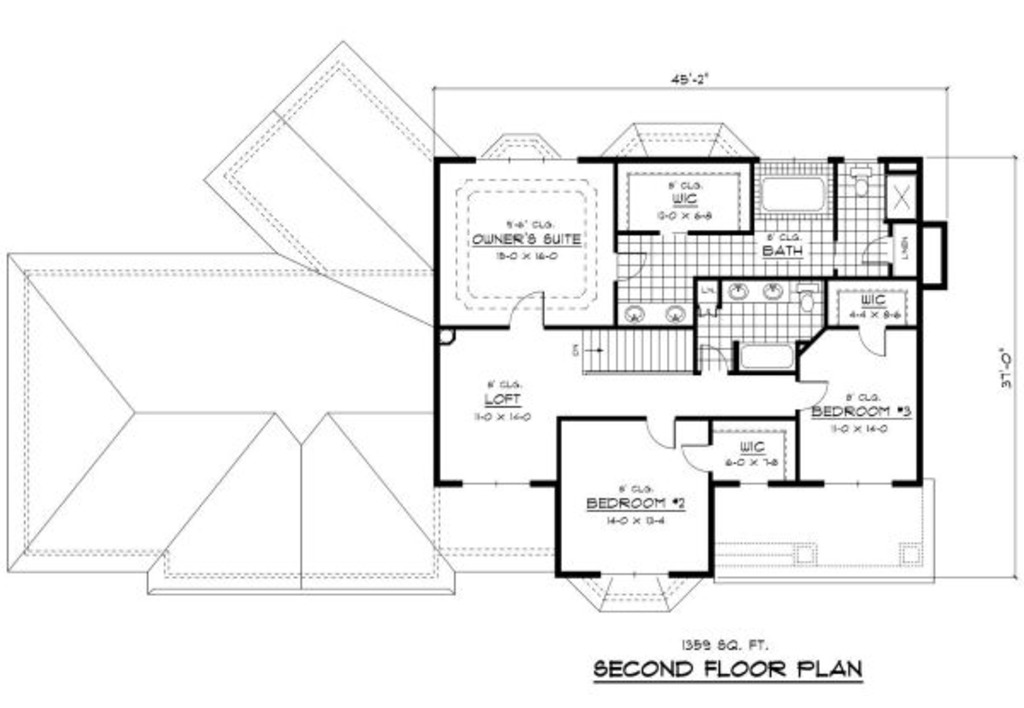door: (505, 290, 546, 334), (611, 247, 648, 286), (645, 414, 680, 450), (794, 379, 829, 414), (857, 324, 890, 360), (680, 441, 713, 473)
large_sink: (845, 165, 876, 202), (795, 279, 820, 313)
small_sink: (615, 299, 696, 332), (722, 275, 792, 307)
stairs: (567, 331, 695, 375)
tub: (756, 168, 834, 223), (737, 338, 796, 370)
windows: (471, 156, 580, 167), (822, 477, 902, 489), (458, 479, 534, 490)
